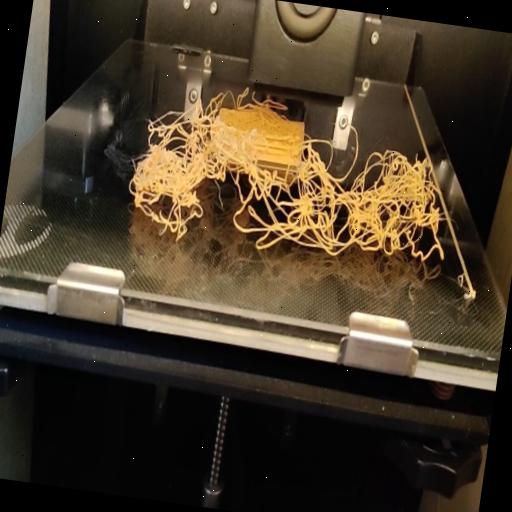spaghetti: (117, 74, 461, 276)
